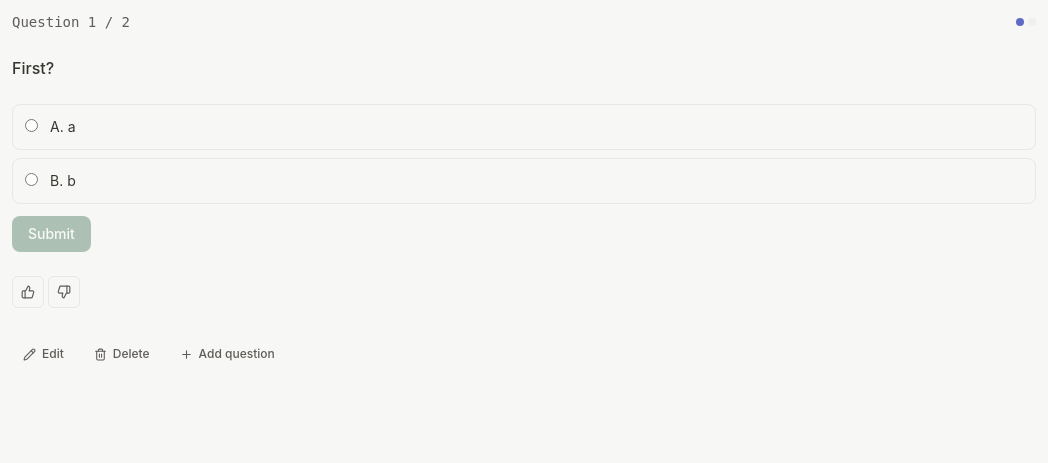
Test: quiz Next › clears the previous question options and result after Next
This screenshot has width=1048, height=463.
Check: the text "First?" is shown, box [12, 58, 54, 78]
Click the radio button labelled "A. a" at (32, 126), box [25, 119, 38, 132]
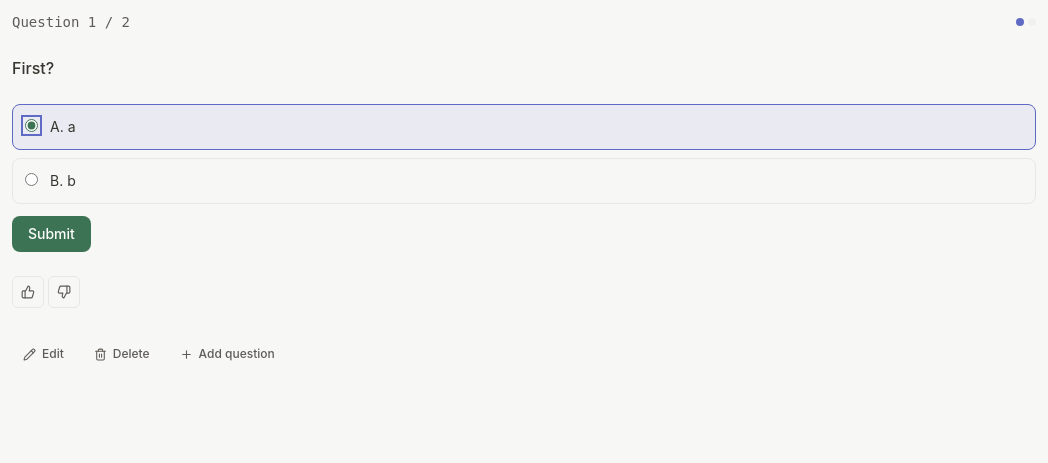
Click the button "Submit" at (51, 234), box [12, 216, 91, 252]
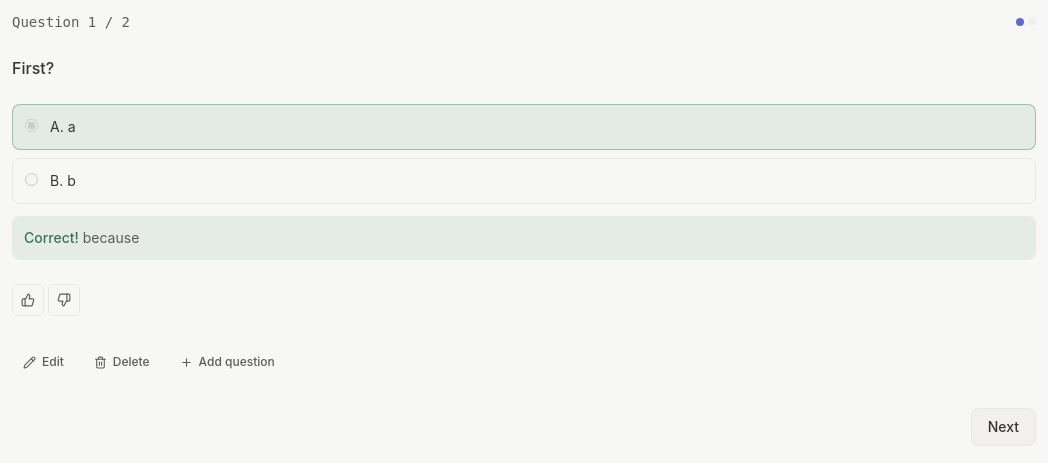
Check: the message "Correct! because" is shown, box [12, 216, 1036, 260]
Click the button "Next" at (1003, 427), box [971, 408, 1036, 446]
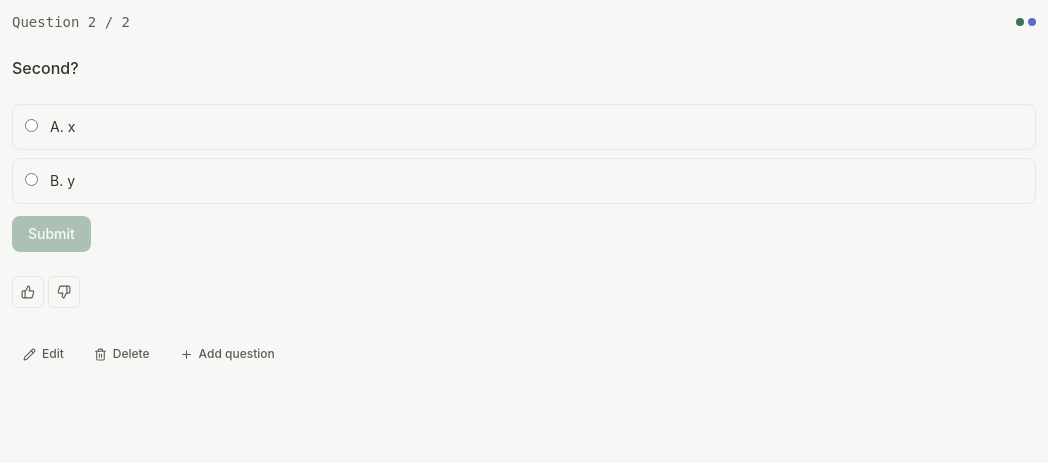
Check: the text "Second?" is shown, box [12, 58, 79, 78]
Check: the text "First?" is gone
Check: the number of radio buttons is 2, box [25, 119, 38, 132]; [25, 173, 38, 186]
